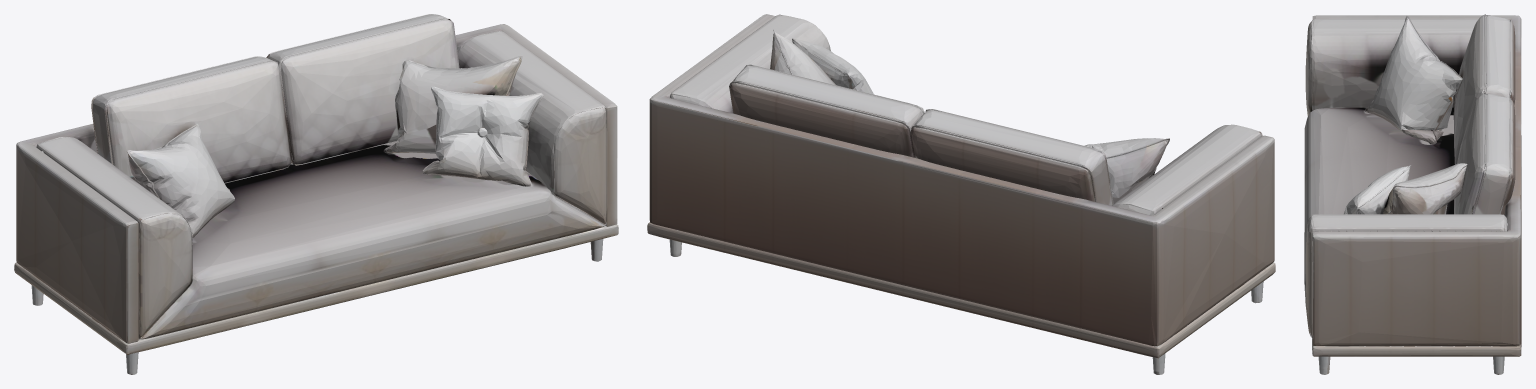
The model's file is edited_mesh.glb.
3 renders of one model, left to right at view 1: azimuth 30°, elevation 25°; view 2: azimuth 150°, elevation 25°; view 3: azimuth 270°, elevation 25°, orthographic. The views are drawn at different scales.
Visible parts, largest first — view 1: solid_001_wire; view 2: solid_001_wire; view 3: solid_001_wire.
Boxes of the visible parts, left/top/right/bottom form: solid_001_wire: left=14, top=14, right=618, bottom=374; solid_001_wire: left=647, top=14, right=1275, bottom=374; solid_001_wire: left=1304, top=14, right=1521, bottom=374.
Size of the model in its own units: 2 by 0.7464 by 0.8192.
1 material, 1 textured.
